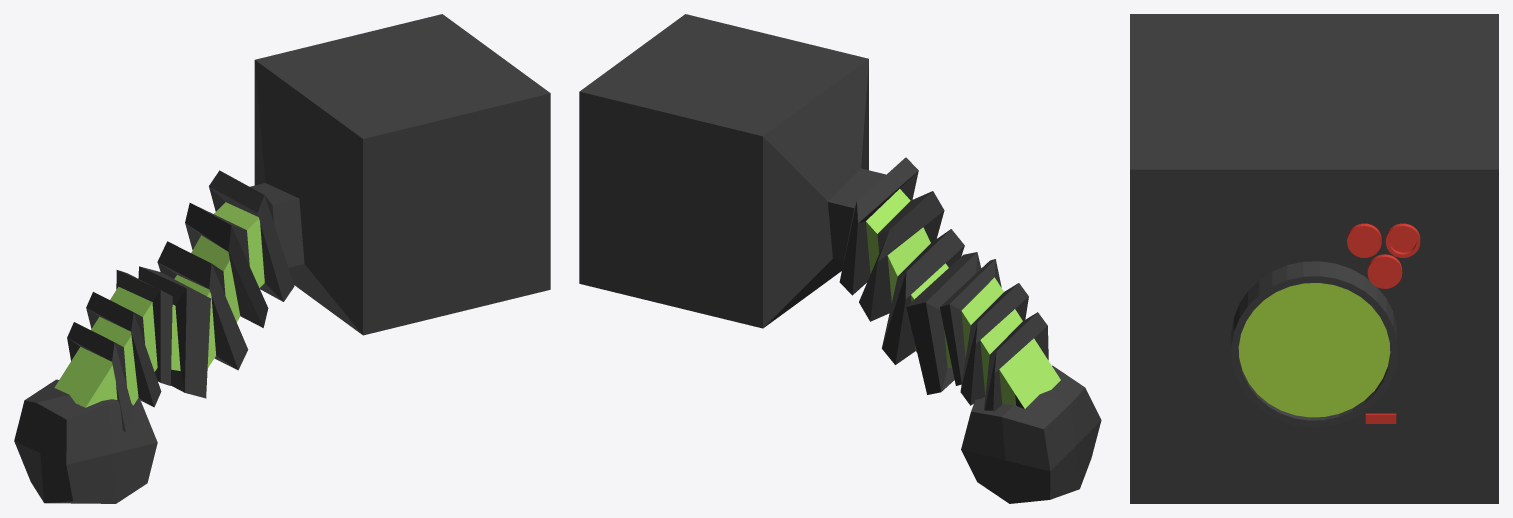
Rendered from drone.glb.
3 views of the same model, side by side, from view 1: azimuth 30°, elevation 25°; view 2: azimuth 150°, elevation 25°; view 3: azimuth 270°, elevation 25° (orthographic). The views are drawn at different scales.
Visible parts, largest first — view 1: Cube.002; view 2: Cube.002; view 3: Cube.002, Cylinder.002, Cylinder.013, Cylinder.015, Cylinder.014.
Part boxes in pixels (bbox=[...]): Cube.002: bbox=[14, 14, 550, 503]; Cube.002: bbox=[579, 14, 1101, 503]; Cube.002: bbox=[1130, 14, 1498, 503]; Cylinder.002: bbox=[1231, 261, 1397, 427]; Cylinder.013: bbox=[1385, 223, 1420, 257]; Cylinder.015: bbox=[1367, 254, 1402, 288]; Cylinder.014: bbox=[1347, 223, 1381, 257].
Bounding box in the file's own units: 5.05 × 3.5 × 2.
